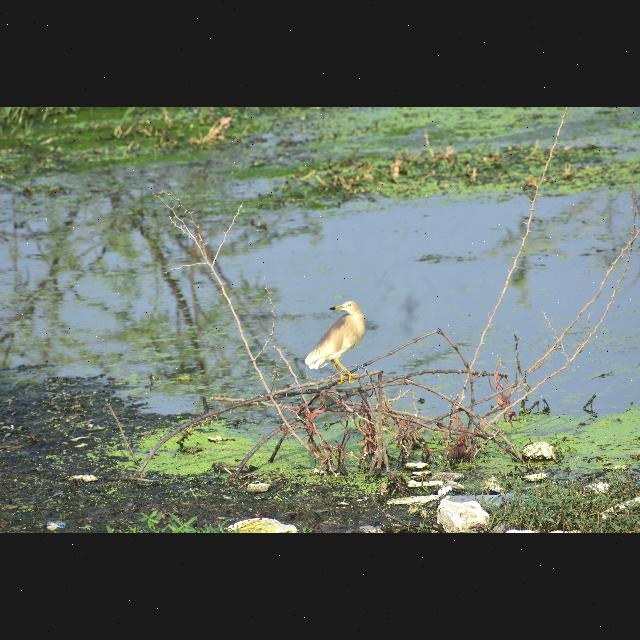heron: (302, 294, 368, 378)
